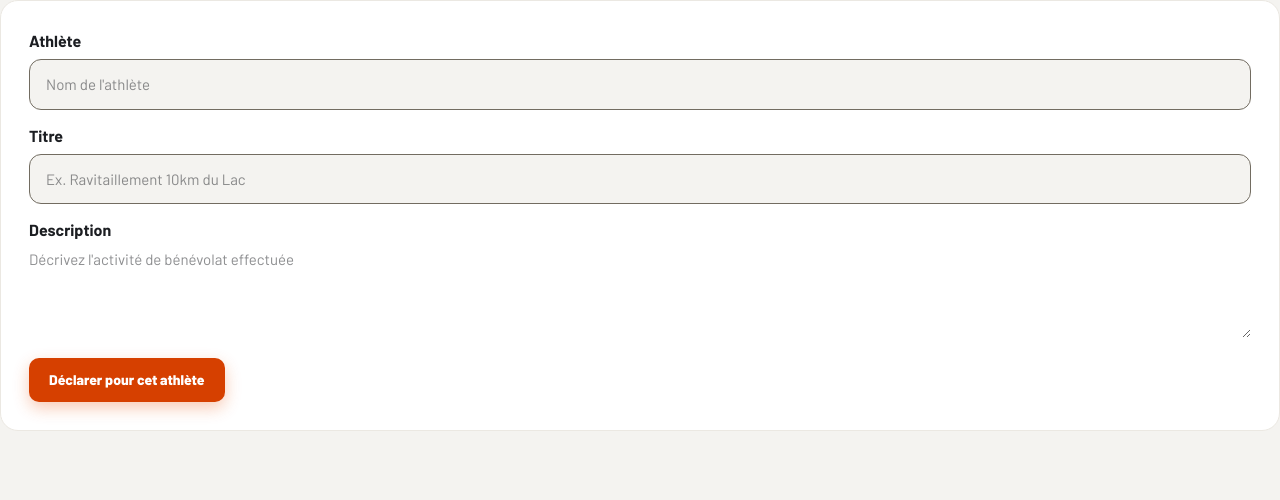
it: VolunteerActionForm › les résultats n'affichent que nom/prénom/club, jamais de date de naissance
The image size is (1280, 500).
In the field labelled "Athlète": (640, 84) left=46, top=73, right=1234, bottom=96, type "Ker"
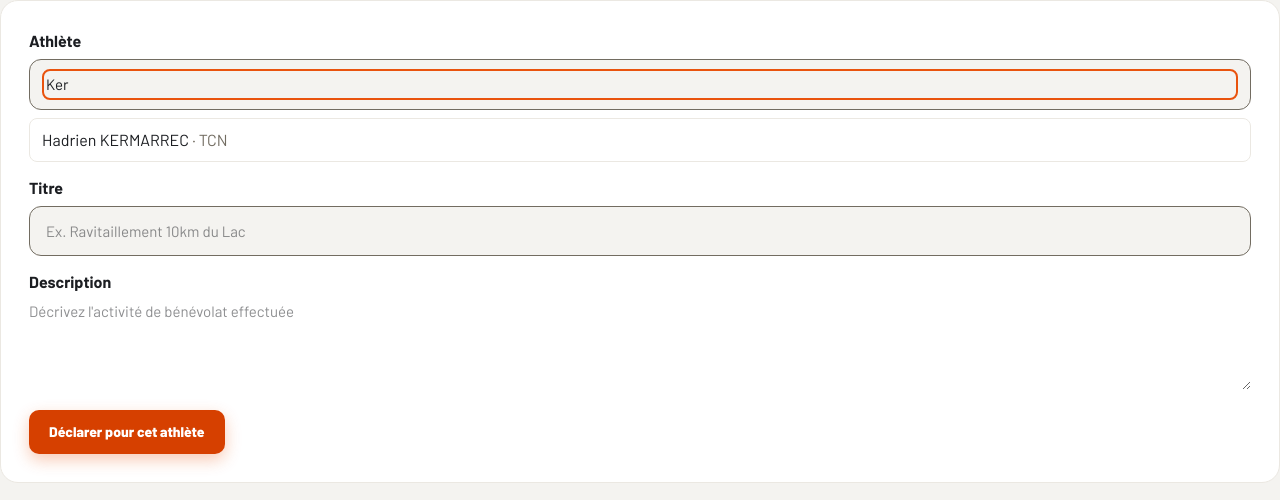
Now the button "Hadrien KERMARREC · TCN" is shown, box left=29, top=118, right=1251, bottom=162
